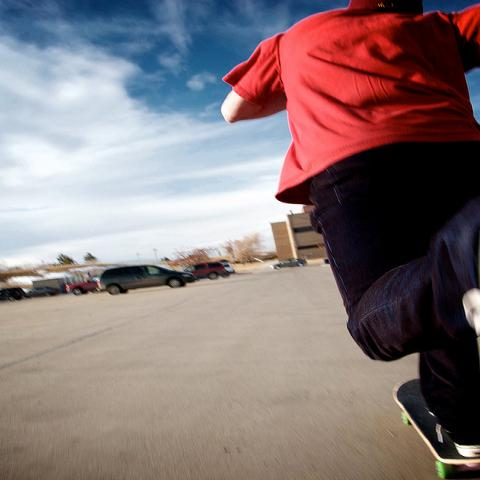car: (100, 266, 198, 294), (182, 259, 236, 283), (64, 274, 102, 296), (274, 257, 308, 270), (0, 285, 20, 301), (31, 286, 60, 296)
